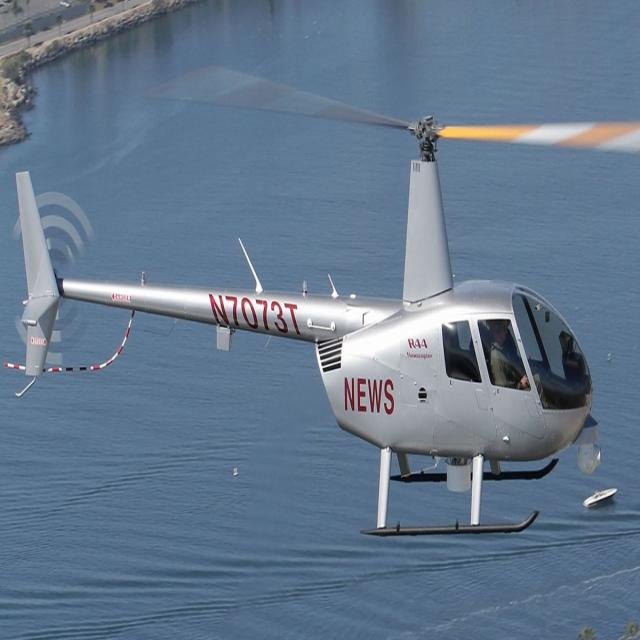CIV_HELO: (15, 113, 597, 538)
